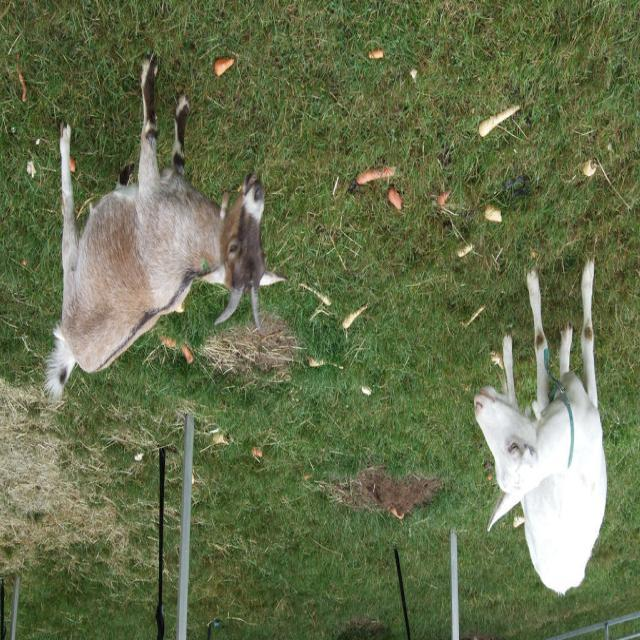Goat: (43, 51, 288, 404), (473, 257, 608, 598)
